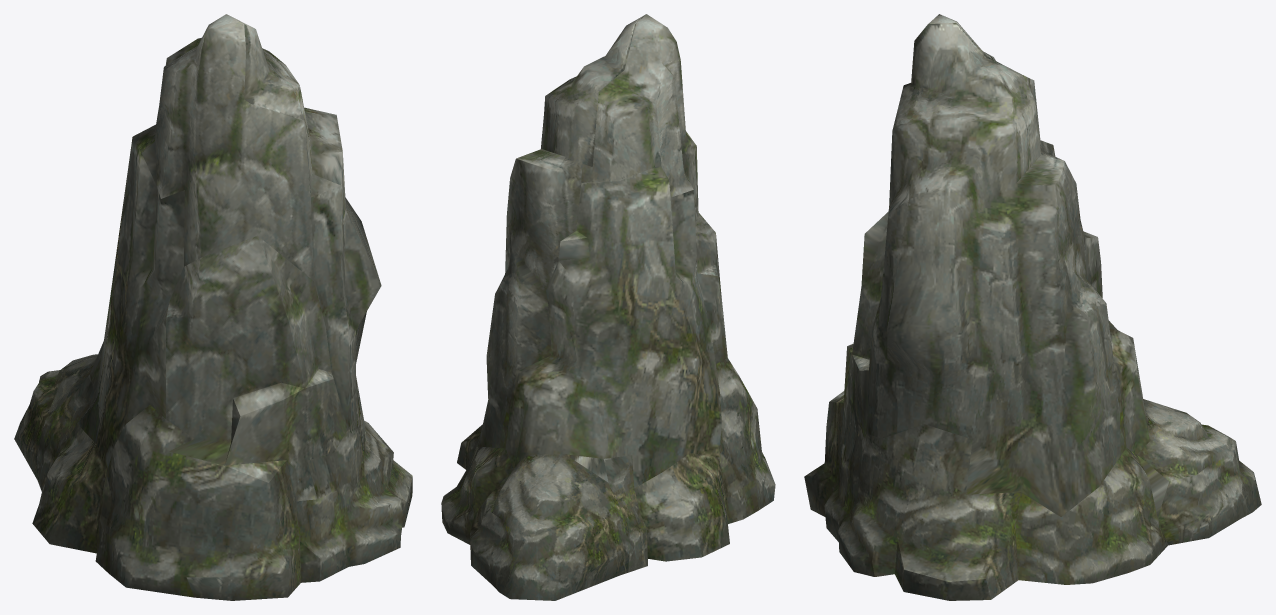
File: Item_3002_shanshi01_yuanshan.FBX
The picture shows the model from 3 angles, left to right: view 1: azimuth 30°, elevation 25°; view 2: azimuth 150°, elevation 25°; view 3: azimuth 270°, elevation 25°; orthographic projection. The views are drawn at different scales.
Visible parts, largest first — view 1: Item_3002_shanshi01_yuanshan; view 2: Item_3002_shanshi01_yuanshan; view 3: Item_3002_shanshi01_yuanshan.
Part boxes in pixels (x1,y1,x2,y2): Item_3002_shanshi01_yuanshan: (14,14,412,600); Item_3002_shanshi01_yuanshan: (441,14,775,600); Item_3002_shanshi01_yuanshan: (804,14,1261,600).
Bounding box in the file's own units: 15927 × 24897 × 20649.
